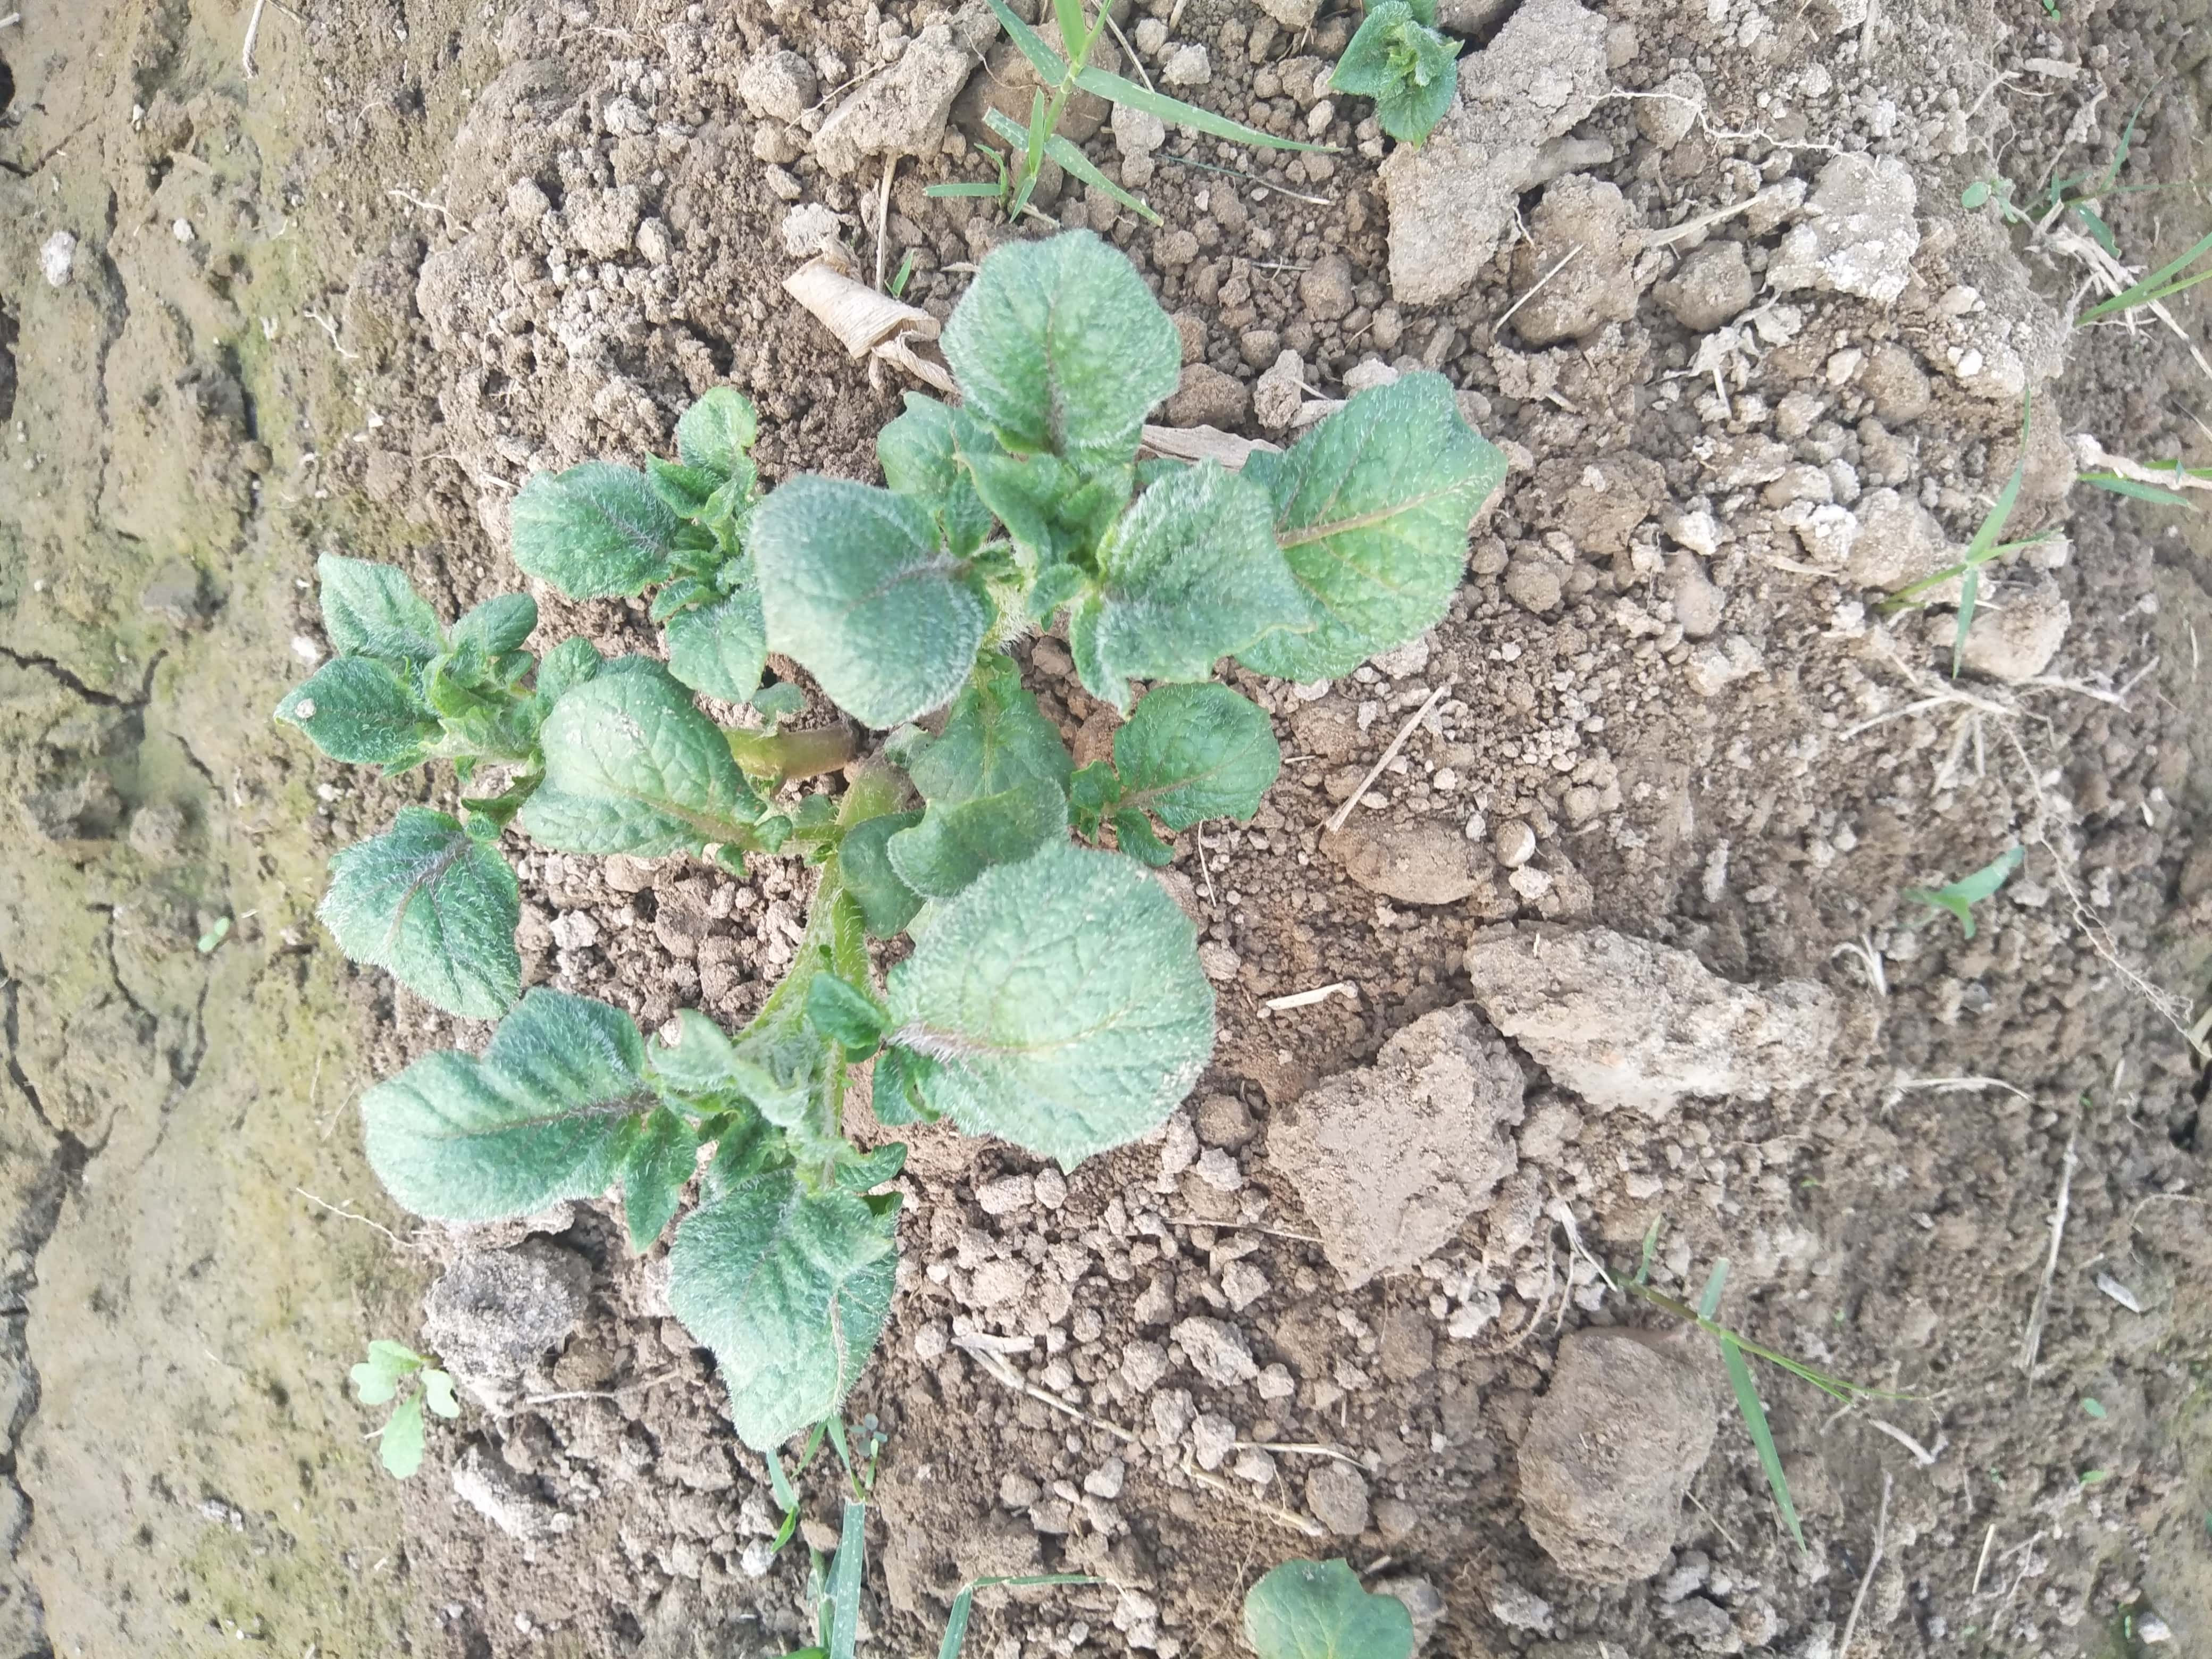daun: (885, 856, 1212, 1150), (1254, 376, 1500, 667), (362, 992, 641, 1209), (1076, 469, 1312, 701), (752, 479, 970, 713), (948, 232, 1179, 446), (697, 1164, 878, 1424), (319, 800, 531, 992), (543, 678, 759, 849), (1092, 685, 1278, 826), (881, 760, 1059, 903), (528, 462, 679, 586), (657, 1014, 801, 1127), (287, 655, 428, 763), (954, 436, 1073, 558), (314, 556, 446, 657), (657, 601, 772, 694), (676, 387, 759, 502), (451, 601, 524, 664), (822, 974, 878, 1047)
